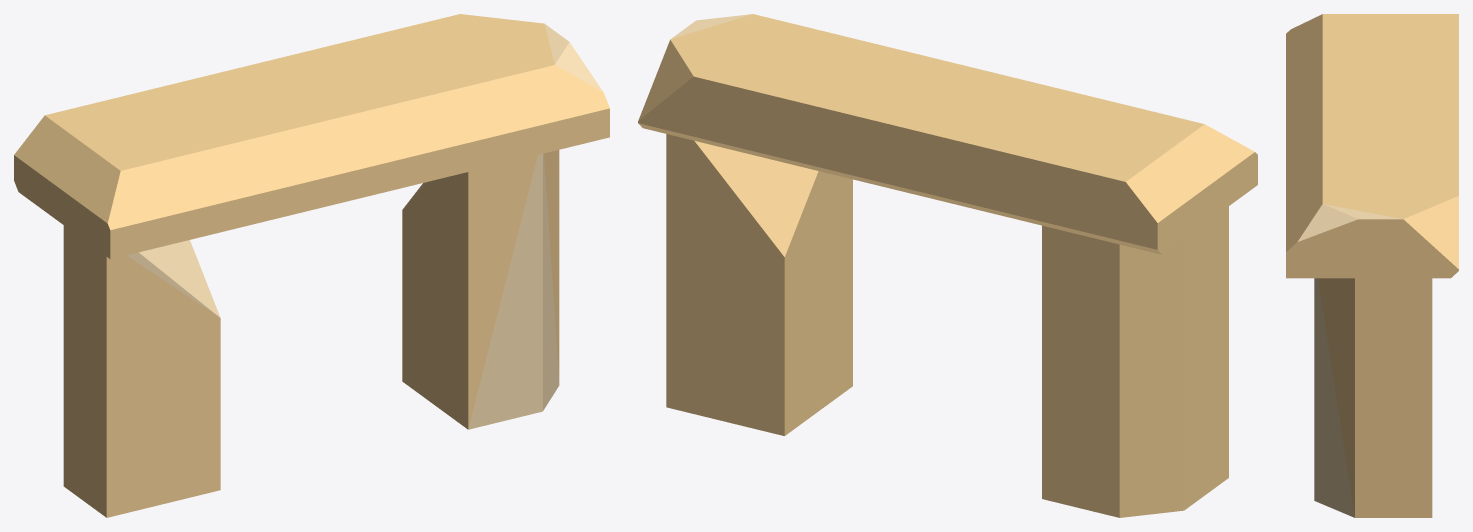
File: desert_rock_2.fbx
The picture shows the model from 3 angles, left to right: view 1: azimuth 30°, elevation 25°; view 2: azimuth 150°, elevation 25°; view 3: azimuth 270°, elevation 25°; orthographic projection. The views are drawn at different scales.
Visible parts, largest first — view 1: desert_rock_2; view 2: desert_rock_2; view 3: desert_rock_2.
Boxes of the visible parts, <box> form: desert_rock_2: <box>14,14,609,517</box>; desert_rock_2: <box>638,14,1257,517</box>; desert_rock_2: <box>1286,14,1458,517</box>.
Bounding box in the file's own units: 233 × 151 × 77.86.
